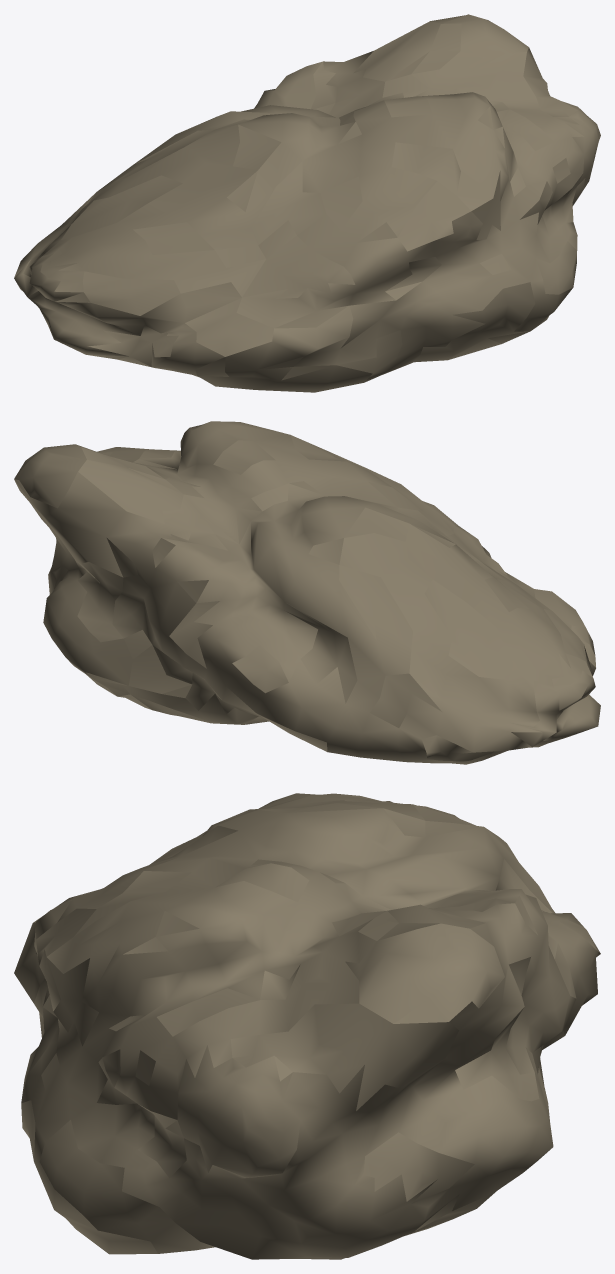
Rendered from rock_2.fbx.
3 views of the same model, one above another, from view 1: azimuth 30°, elevation 25°; view 2: azimuth 150°, elevation 25°; view 3: azimuth 270°, elevation 25° (orthographic). The views are drawn at different scales.
Visible parts, largest first — view 1: Rock, Rock.015, Rock.005, Rock.040, Rock.041, Rock.042, Rock.038, Rock.032, Rock.037, Rock.002, Rock.011, Rock.017 (+21 smaller); view 2: Rock, Rock.032, Rock.037, Rock.011, Rock.010, Rock.002, Rock.016, Rock.033, Rock.021, Rock.019, Rock.015, Rock.020 (+10 smaller); view 3: Rock, Rock.003, Rock.001, Rock.002, Rock.004, Rock.010, Rock.027, Rock.012, Rock.011, Rock.006, Rock.035, Rock.009 (+7 smaller).
Part boxes in pixels (<box>): Rock: <box>14,23,585,392</box>; Rock.015: <box>215,236,355,298</box>; Rock.005: <box>414,282,535,362</box>; Rock.040: <box>251,161,326,245</box>; Rock.041: <box>185,298,273,356</box>; Rock.042: <box>82,271,180,315</box>; Rock.038: <box>398,181,470,251</box>; Rock.032: <box>61,175,182,239</box>; Rock.037: <box>353,21,440,81</box>; Rock.002: <box>430,14,528,72</box>; Rock.011: <box>392,142,460,195</box>; Rock.017: <box>86,325,178,366</box>; Rock: <box>14,421,600,763</box>; Rock.032: <box>424,579,512,679</box>; Rock.037: <box>78,459,183,524</box>; Rock.011: <box>286,435,357,703</box>; Rock.010: <box>77,449,180,642</box>; Rock.002: <box>14,444,104,508</box>; Rock.016: <box>370,577,528,727</box>; Rock.033: <box>339,565,412,648</box>; Rock.021: <box>152,481,323,567</box>; Rock.019: <box>511,653,592,746</box>; Rock.015: <box>422,526,507,764</box>; Rock.020: <box>308,507,409,564</box>; Rock: <box>14,793,600,1259</box>; Rock.003: <box>230,1003,458,1110</box>; Rock.001: <box>177,1045,300,1177</box>; Rock.002: <box>345,923,504,1023</box>; Rock.004: <box>39,1120,215,1253</box>; Rock.010: <box>157,964,539,1101</box>; Rock.027: <box>135,1050,474,1203</box>; Rock.012: <box>138,1104,493,1234</box>; Rock.011: <box>74,859,552,936</box>; Rock.006: <box>46,957,98,1046</box>; Rock.035: <box>215,863,309,902</box>; Rock.009: <box>123,911,576,998</box>.
Size of the model in its own units: 13805 by 5947 by 8594.
